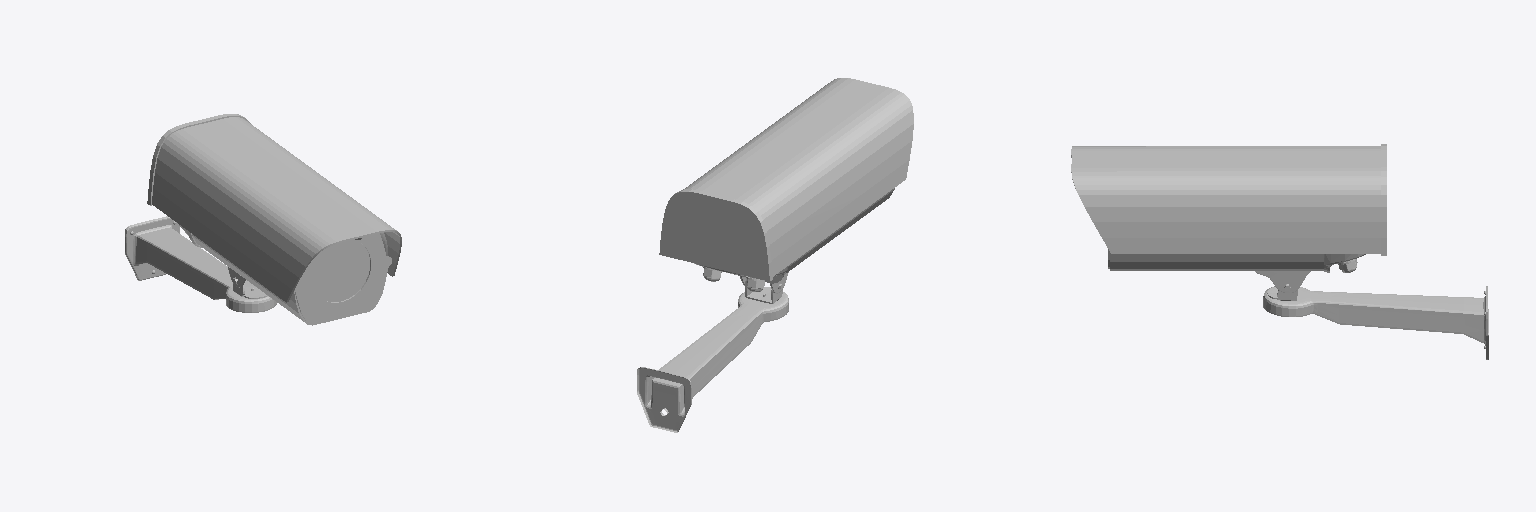
File: security_camera_01_2k.obj
3 renders of one model, left to right at view 1: azimuth 30°, elevation 25°; view 2: azimuth 150°, elevation 25°; view 3: azimuth 270°, elevation 25°, orthographic.
Visible parts, largest first — view 1: security_camera_01; view 2: security_camera_01; view 3: security_camera_01.
Boxes of the visible parts, x1=… form: security_camera_01: x1=125, y1=114, x2=401, y2=325; security_camera_01: x1=637, y1=78, x2=913, y2=432; security_camera_01: x1=1071, y1=144, x2=1488, y2=359.
Size of the model in its own units: 0.1696 by 0.286 by 0.5537.